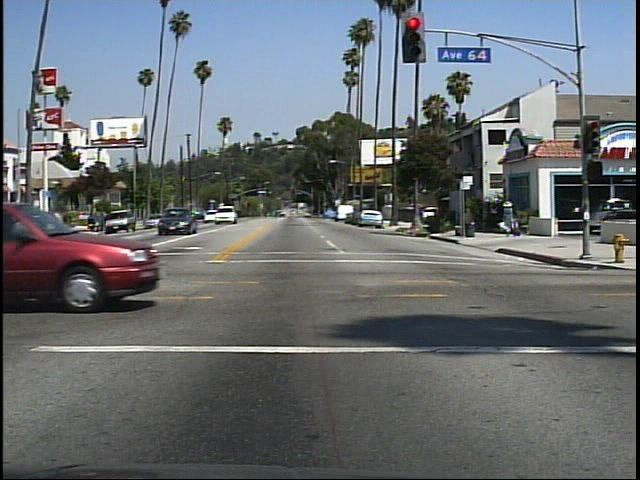person: (496, 195, 522, 245)
